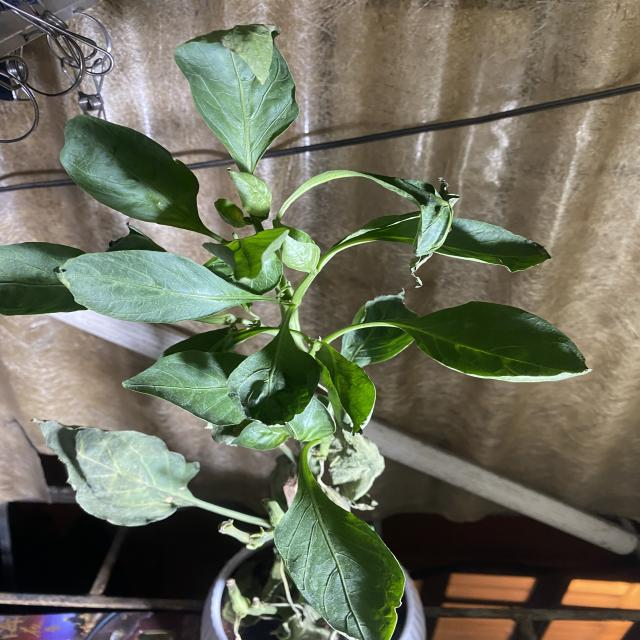Leaf: (272, 494, 403, 640), (174, 23, 298, 171), (30, 418, 198, 526), (58, 112, 201, 225), (410, 299, 588, 384), (56, 249, 251, 324), (226, 342, 324, 425)
